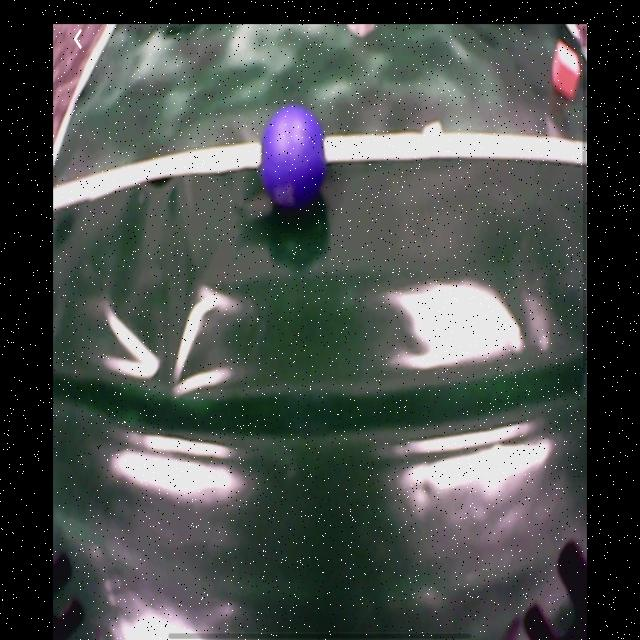ball: (259, 108, 329, 207)
